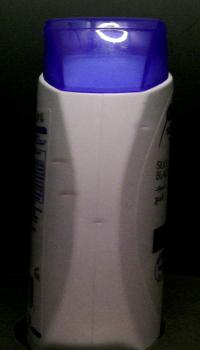dent_marginal: (75, 211, 126, 230), (124, 120, 170, 136), (51, 184, 79, 201), (49, 156, 79, 171)
